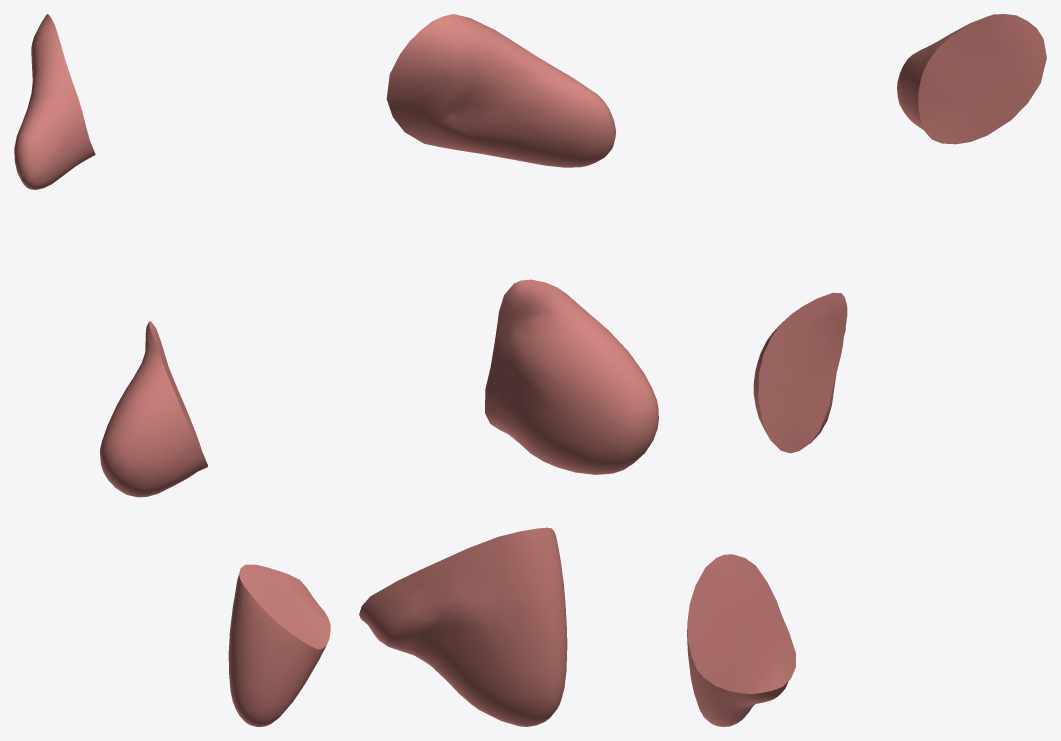
Rendered from fma299903_mm3941.glb.
3 views of the same model, side by side, from view 1: azimuth 30°, elevation 25°; view 2: azimuth 150°, elevation 25°; view 3: azimuth 270°, elevation 25° (orthographic). The views are drawn at different scales.
Parts seen in each view (by area): view 1: FMA299903_MM3941; view 2: FMA299903_MM3941; view 3: FMA299903_MM3941.
Boxes of the visible parts, box(x1,y1,x2,y2) form: FMA299903_MM3941: box(14, 14, 330, 726); FMA299903_MM3941: box(359, 14, 658, 726); FMA299903_MM3941: box(687, 14, 1046, 726).
Bounding box in the file's own units: 0.0339 × 0.0838 × 0.0408.
